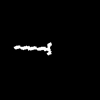half_double_crochet: (14, 43, 51, 54)
